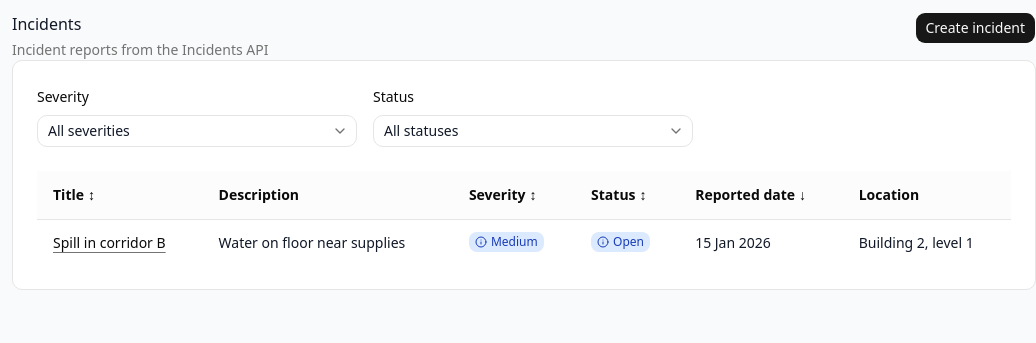
Test: IncidentsView › clears inline error alert and keeps DataTable when refetch succeeds after a refetch error
Check: the element named "Incidents list, scrollable" is shown, box x1=37 y1=171 x2=1011 y2=265
Click the dropdown named "Severity" at (89, 130), box x1=37 y1=115 x2=357 y2=147
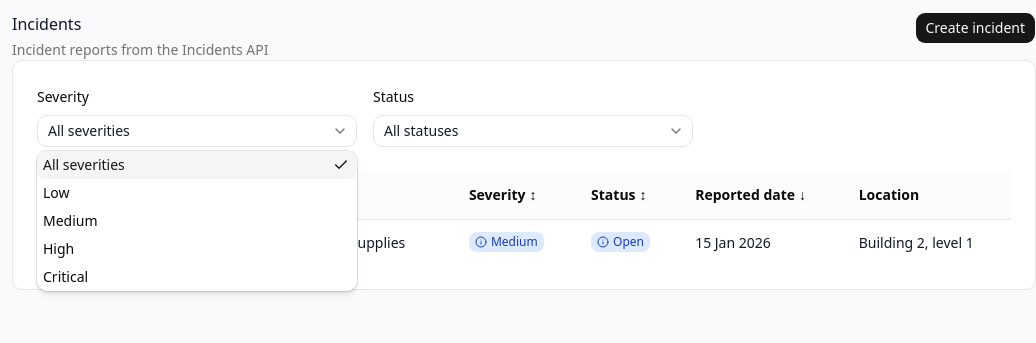
Click the option "High" at (59, 248), box x1=43 y1=239 x2=74 y2=258
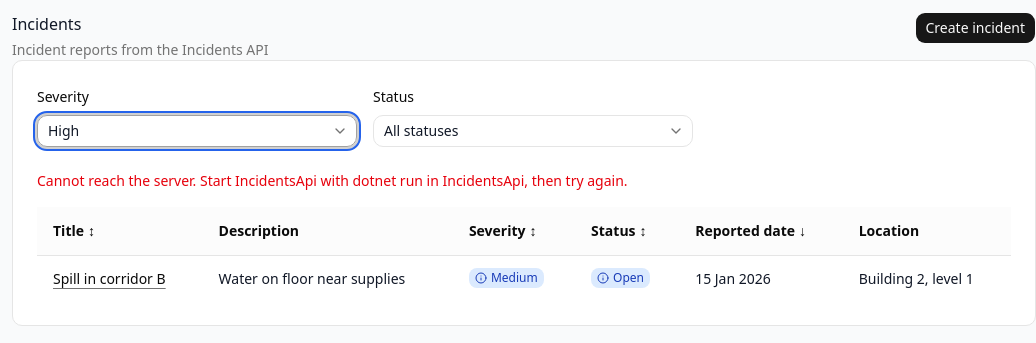
Check: the message is shown, box x1=37 y1=171 x2=628 y2=190
Click the dropdown named "Severity" at (64, 130), box x1=37 y1=115 x2=357 y2=147
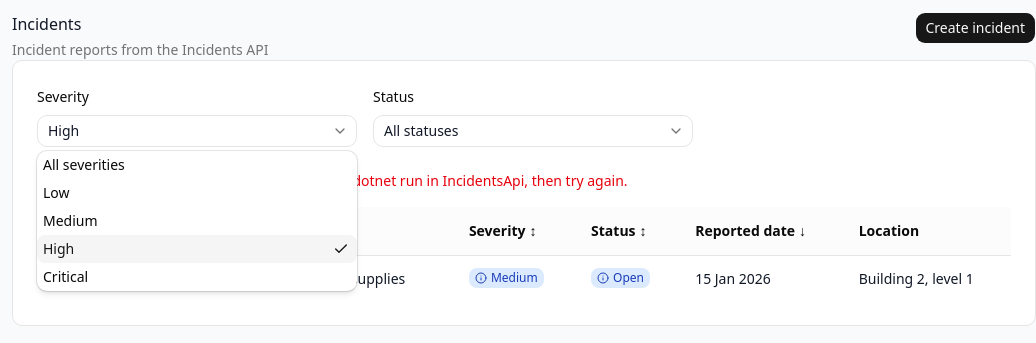
Click the option "All severities" at (84, 164), box x1=43 y1=155 x2=125 y2=174
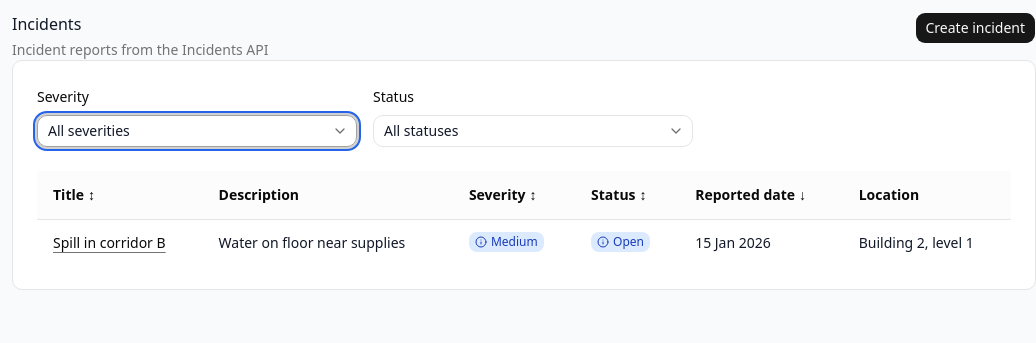
Check: the element named "Incidents list, scrollable" is shown, box x1=37 y1=171 x2=1011 y2=265
Check: the message is gone
